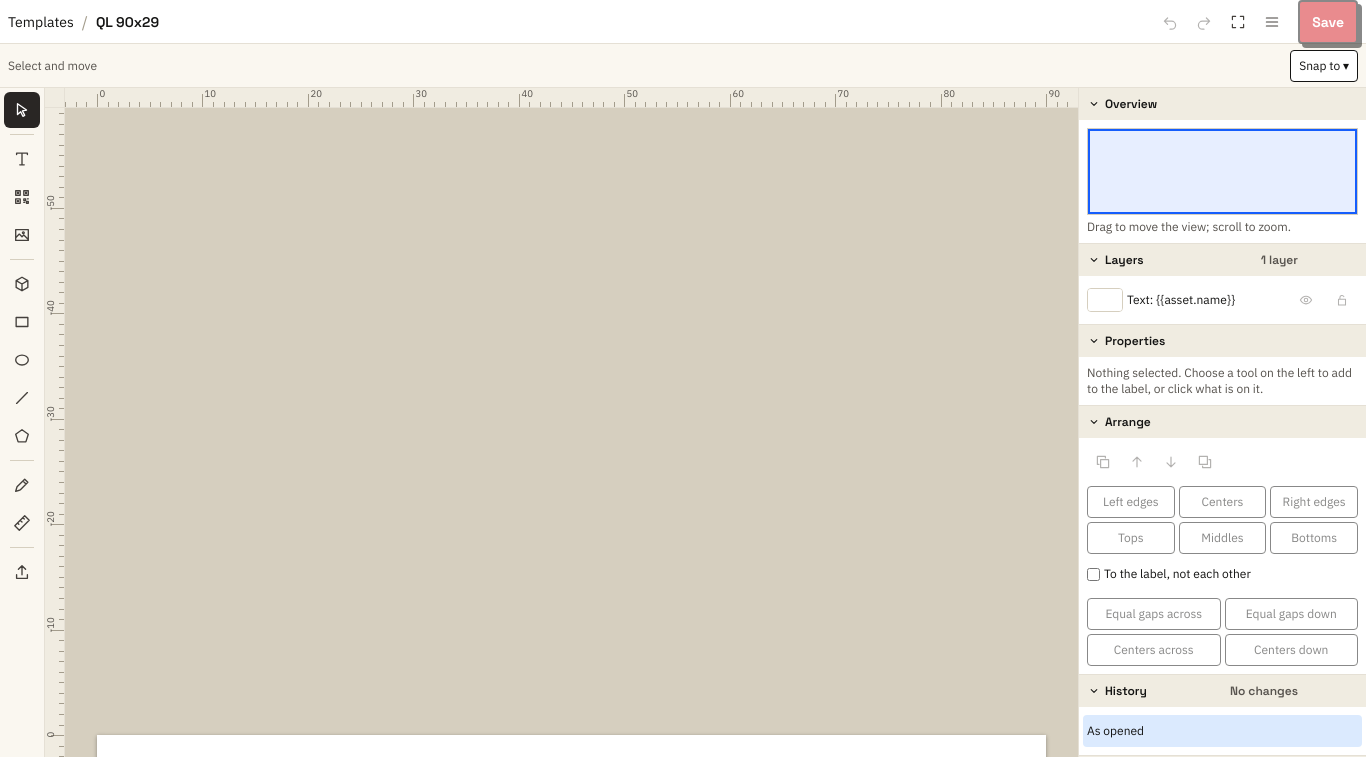
TemplateEditor › changes the units of the rulers from their menu
Right-click the element showing "0 10 20 30 40 50 60 70 80 90" at {"x": 572, "y": 98}, box [65,88,1078,107]
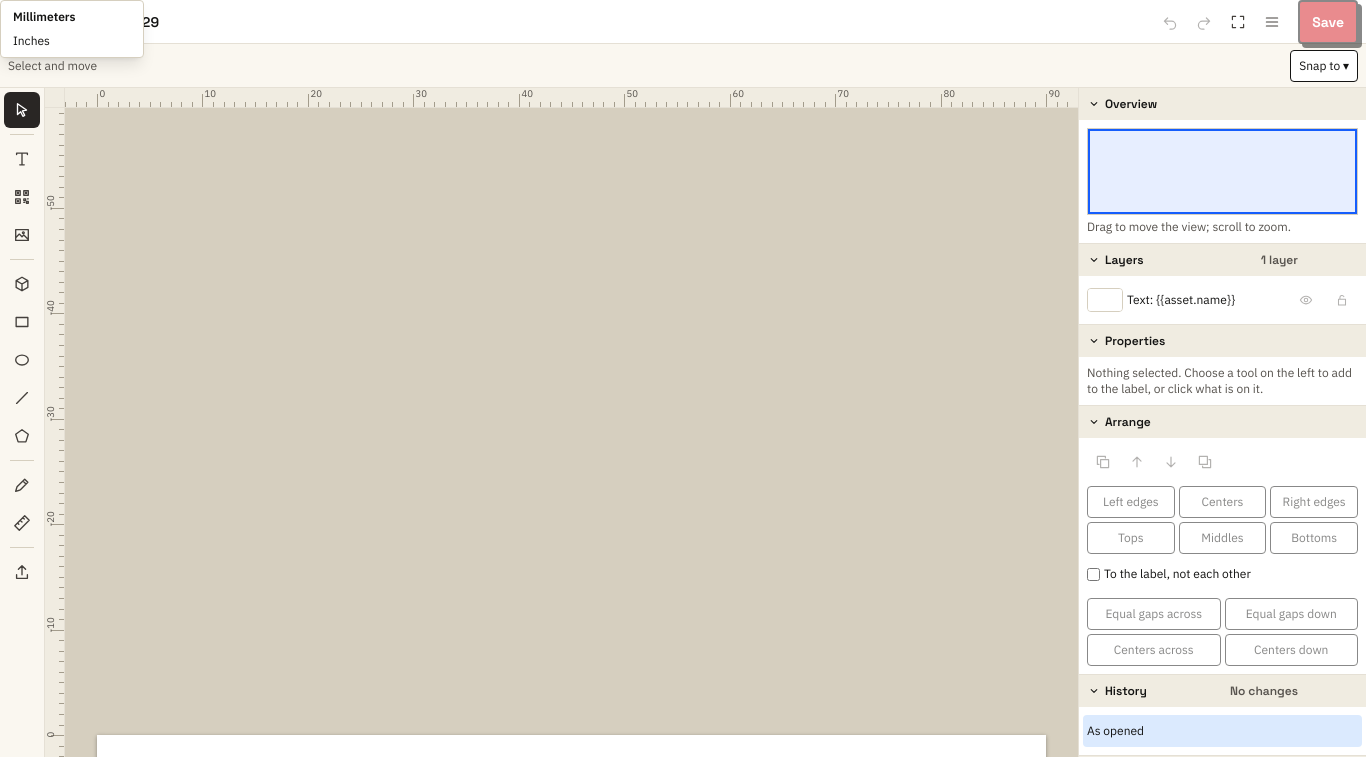
Click the menu item "Inches". click: {"x": 72, "y": 41}
box: [1,29,143,53]
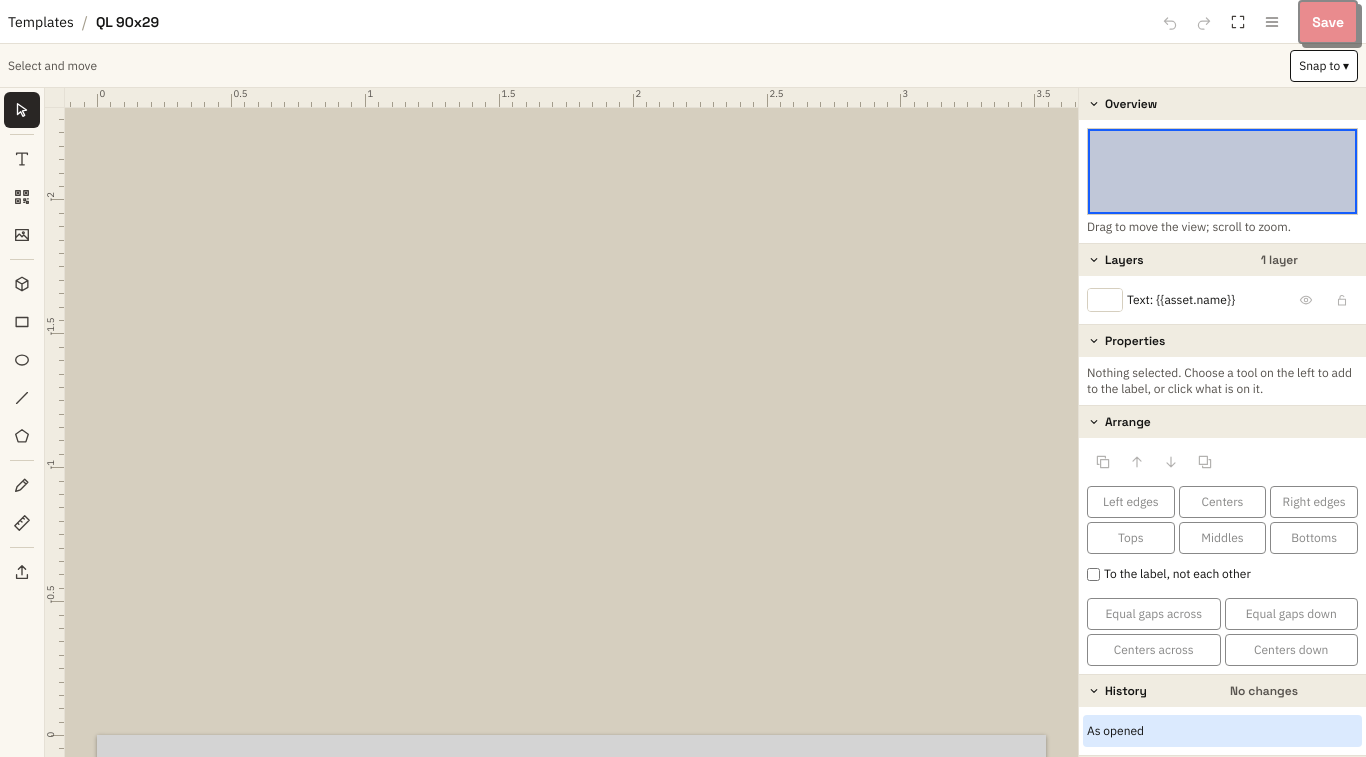
Now the menu is gone
